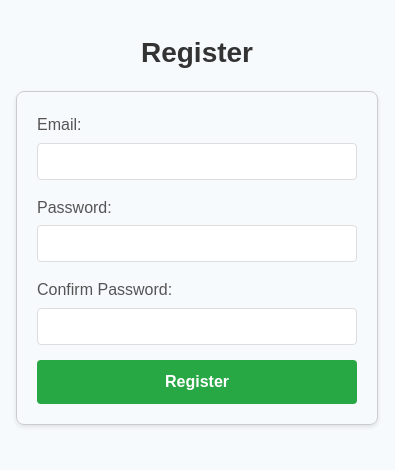
Test case: RegisterPage Component › Loading State › disables register button and shows loading text during registration attempt
Type "test@example.com" into the field labelled "Email:".
click(197, 161); type("test@example.com")  # box [37,143,357,180]
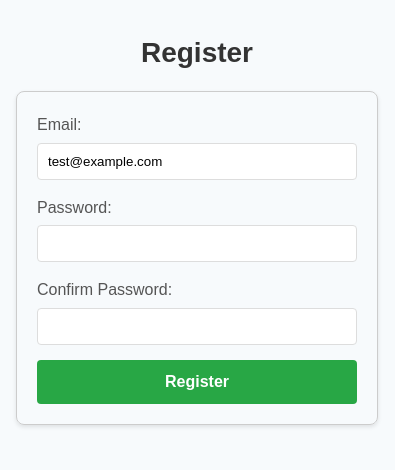
Type "password123" into the password field labelled "Password:".
click(197, 244); type("password123")  # box [37,226,357,262]
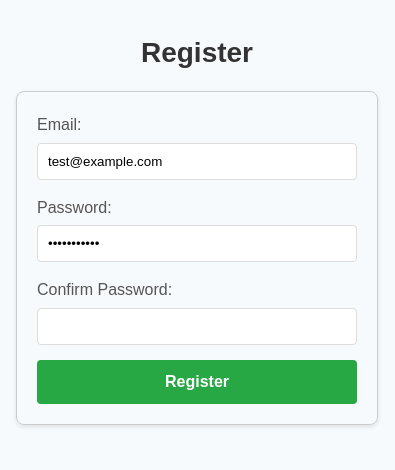
Type "password123" into the password field labelled "Confirm Password:".
click(197, 327); type("password123")  # box [37,308,357,345]
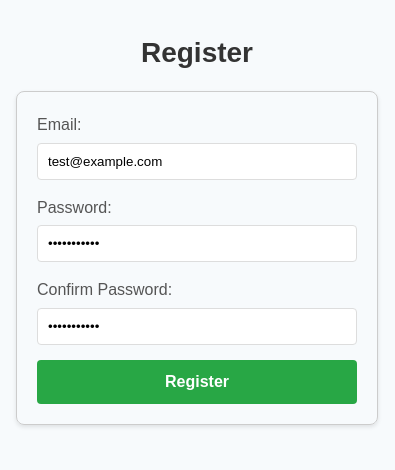
Click the button "Register".
click(197, 382)  # box [37,360,357,404]
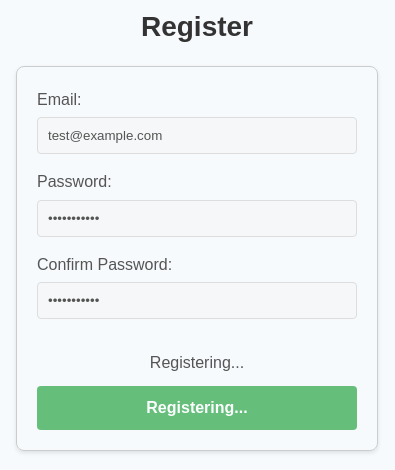
Now the button "Registering..." is disabled, box [37,386,357,430]
Now the button "Registering..." is shown, box [37,386,357,430]
